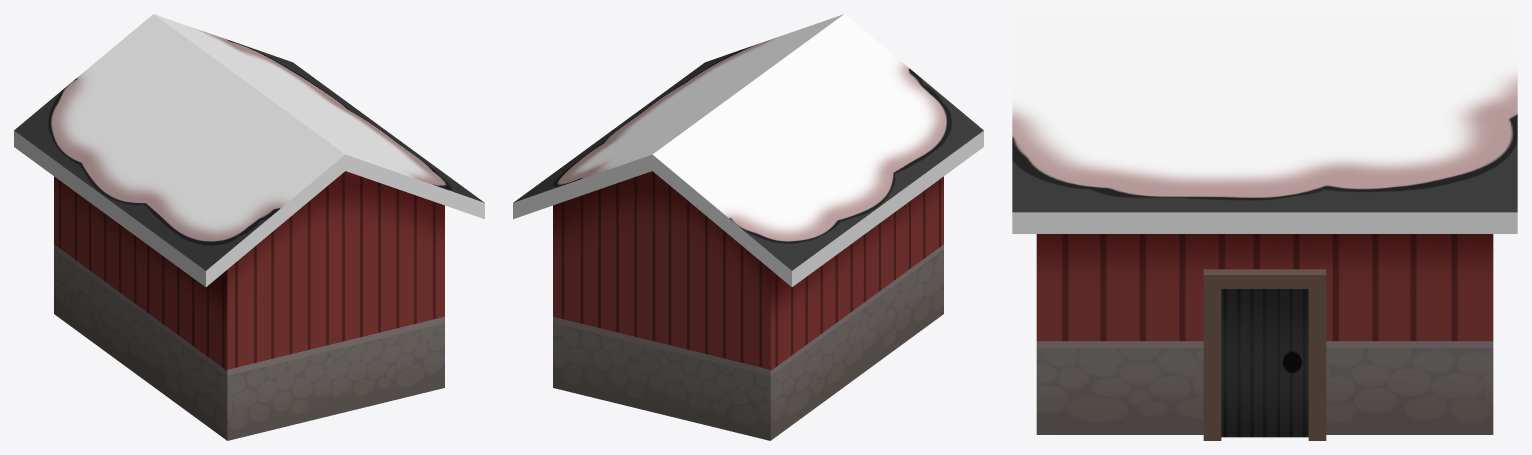
File: Talli.fbx
3 views of the same model, side by side, from view 1: azimuth 30°, elevation 25°; view 2: azimuth 150°, elevation 25°; view 3: azimuth 270°, elevation 25° (orthographic). The views are drawn at different scales.
Parts seen in each view (by area): view 1: Talli; view 2: Talli; view 3: Talli.
Part boxes in pixels (x1,y1,x2,y2): Talli: (14, 14, 484, 440); Talli: (513, 14, 983, 440); Talli: (1012, 14, 1517, 440).
Bounding box in the file's own units: 506 × 462 × 603.
